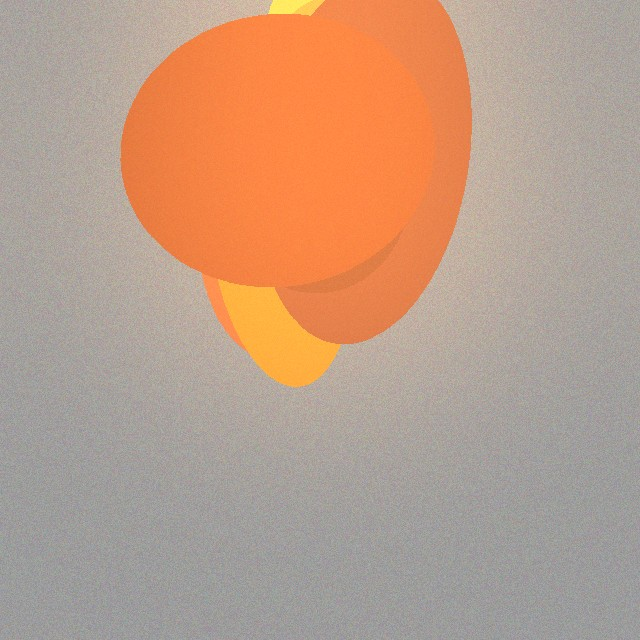fire: (205, 38, 439, 326)
